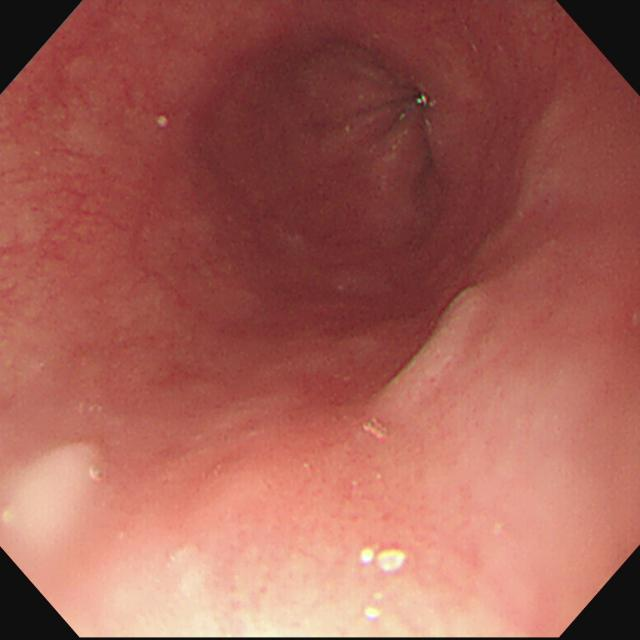I: (293, 30, 464, 183)
J: (2, 442, 102, 546), (157, 115, 170, 127)
U: (360, 546, 409, 573)
